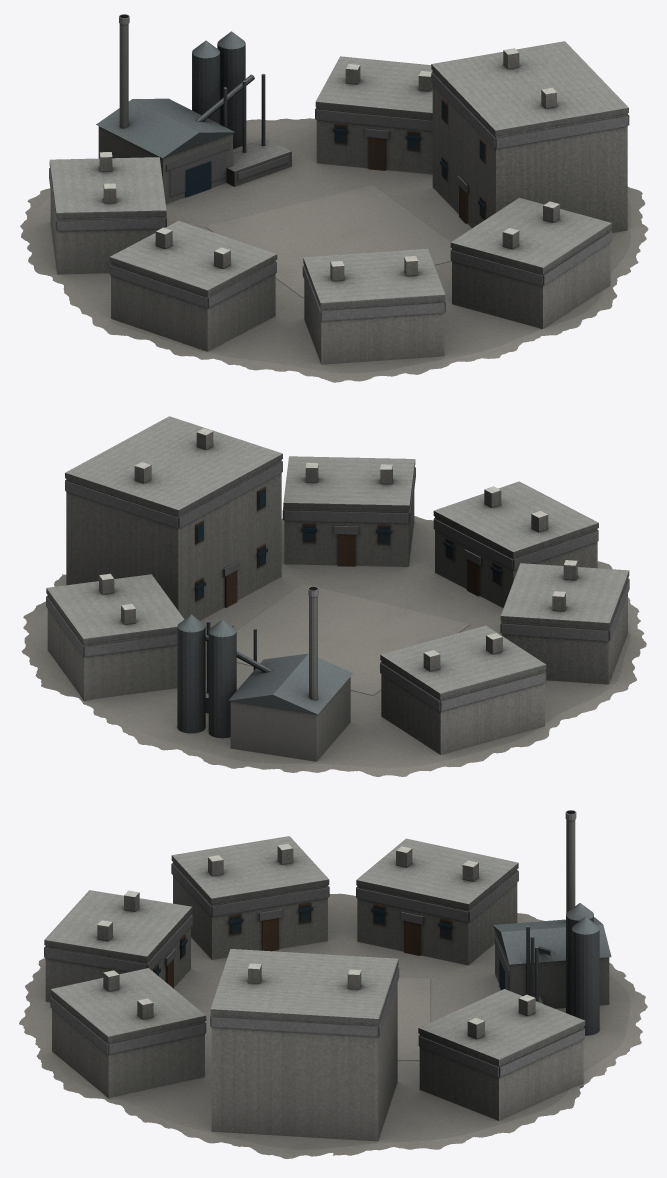
File: modern-town-small-b-maghreb-2065ca48.glb
The picture shows the model from 3 angles, top to bottom: view 1: azimuth 30°, elevation 25°; view 2: azimuth 150°, elevation 25°; view 3: azimuth 270°, elevation 25°; orthographic projection.
Parts seen in each view (by area): view 1: LOD0; view 2: LOD0; view 3: LOD0.
Part boxes in pixels (bbox=[...]): LOD0: bbox=[20, 14, 648, 382]; LOD0: bbox=[21, 416, 646, 776]; LOD0: bbox=[19, 810, 647, 1158].
Size of what is drawn, in the model's own units: 4 by 1.13 by 3.95.
Materials: 3 (3 with a texture image).
